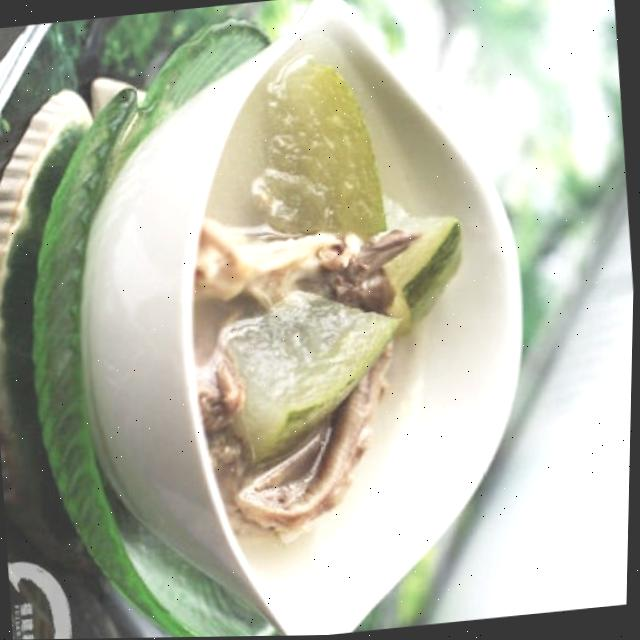汤锅炖物: (44, 0, 583, 639)
